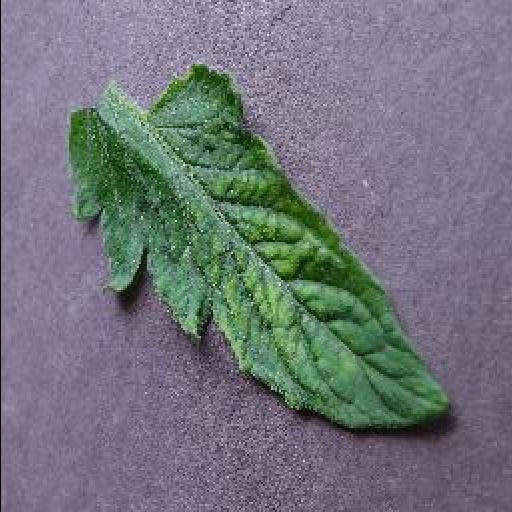Mosaic Virus: (68, 66, 454, 432)
